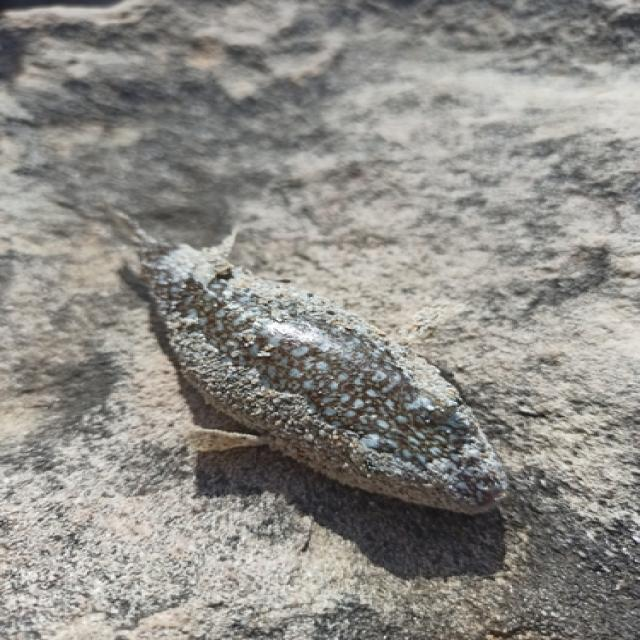Balik: (127, 219, 506, 513)
